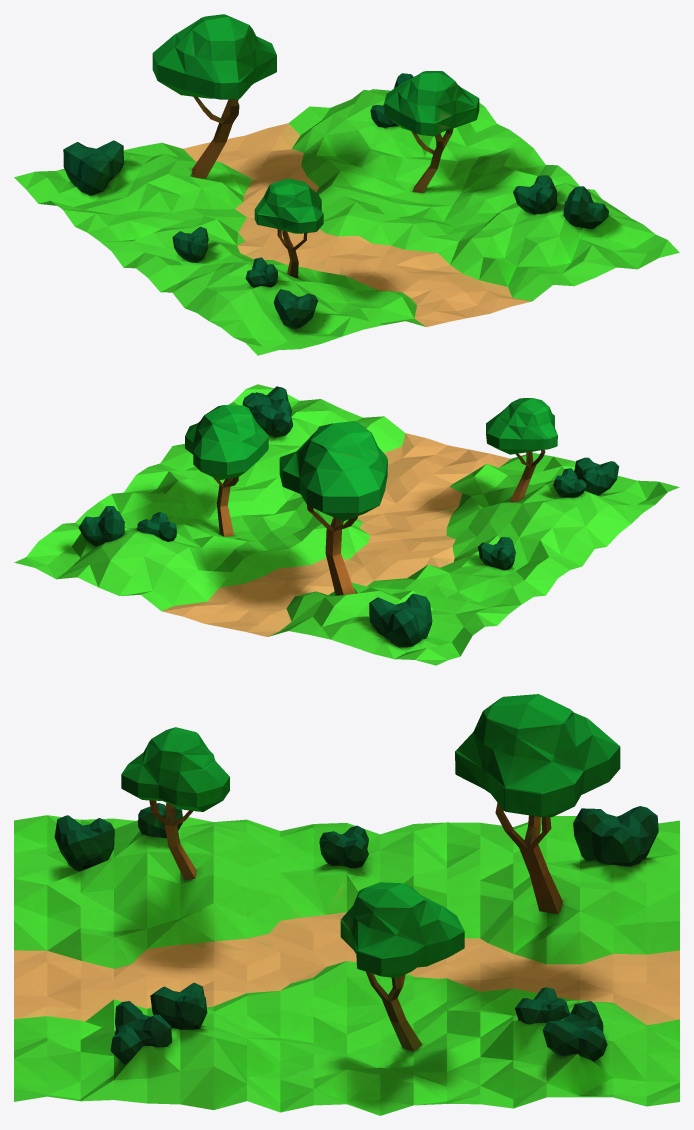
The model's file is metacave3.gltf.
3 views of the same model, one above another, from view 1: azimuth 30°, elevation 25°; view 2: azimuth 150°, elevation 25°; view 3: azimuth 270°, elevation 25° (orthographic). The views are drawn at different scales.
Visible parts, largest first — view 1: Mball.009; view 2: Mball.009; view 3: Mball.009.
Part boxes in pixels (<box>): Mball.009: <box>14,14,679,355</box>; Mball.009: <box>14,384,679,665</box>; Mball.009: <box>14,694,679,1115</box>.
Bounding box in the file's own units: 10 × 4.1 × 10.
Materials: 5 (5 with a texture image).
